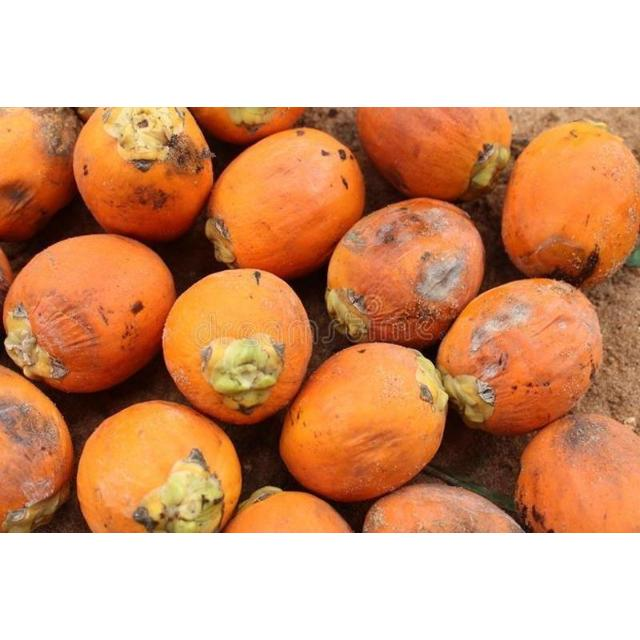good: (4, 234, 172, 392), (280, 342, 448, 500), (437, 279, 601, 433), (324, 199, 484, 347), (205, 129, 361, 279), (162, 270, 310, 424), (504, 122, 638, 288), (74, 108, 214, 242), (358, 108, 510, 204), (516, 413, 638, 531), (2, 367, 74, 533), (1, 108, 81, 242), (360, 482, 528, 532), (216, 488, 356, 532), (3, 305, 69, 383), (185, 108, 308, 144), (411, 351, 447, 417), (170, 494, 222, 534), (234, 486, 284, 518), (560, 120, 612, 140), (0, 243, 14, 303), (4, 509, 36, 533), (73, 107, 103, 123), (236, 496, 254, 514), (580, 120, 608, 130)
